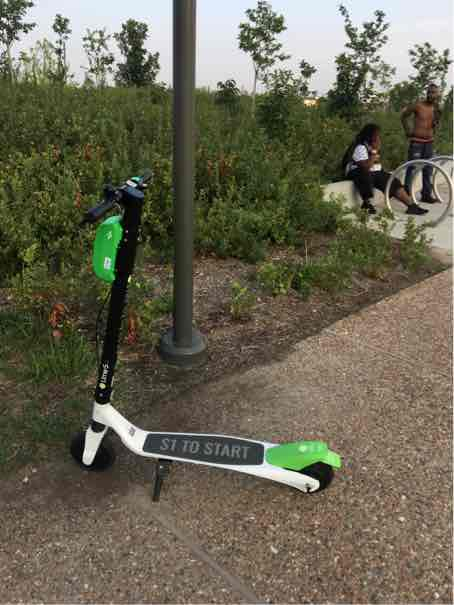scooter: (73, 167, 338, 508)
